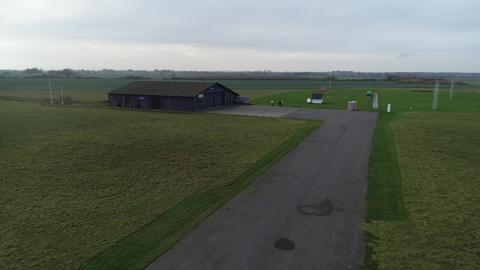RockwoolPallet: (348, 100, 356, 112)
